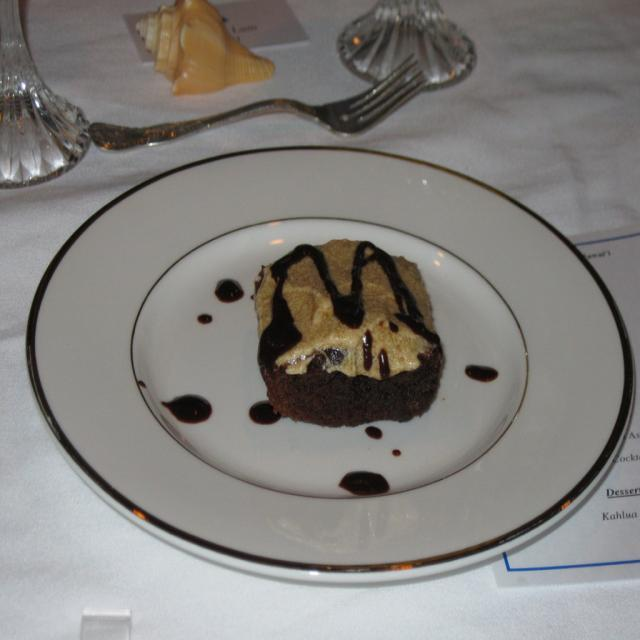ceramic plate: (22, 140, 640, 625)
